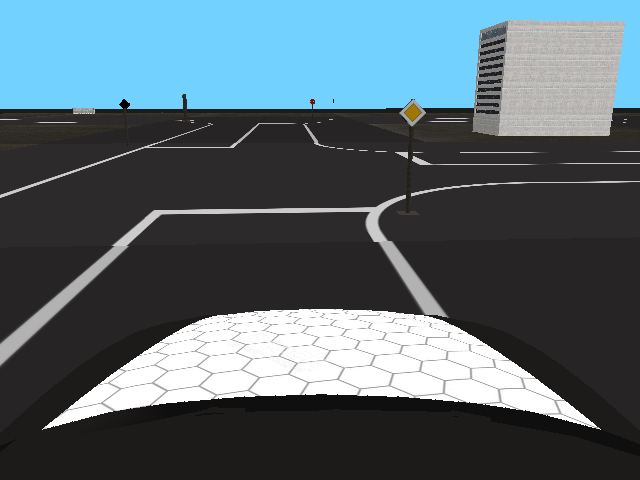yellow_light: (399, 98, 426, 126)
